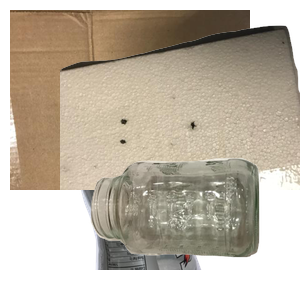cardboard: (10, 10, 250, 190)
glass: (88, 156, 300, 300)
plastic: (71, 120, 265, 300)
trash: (60, 23, 300, 203)
